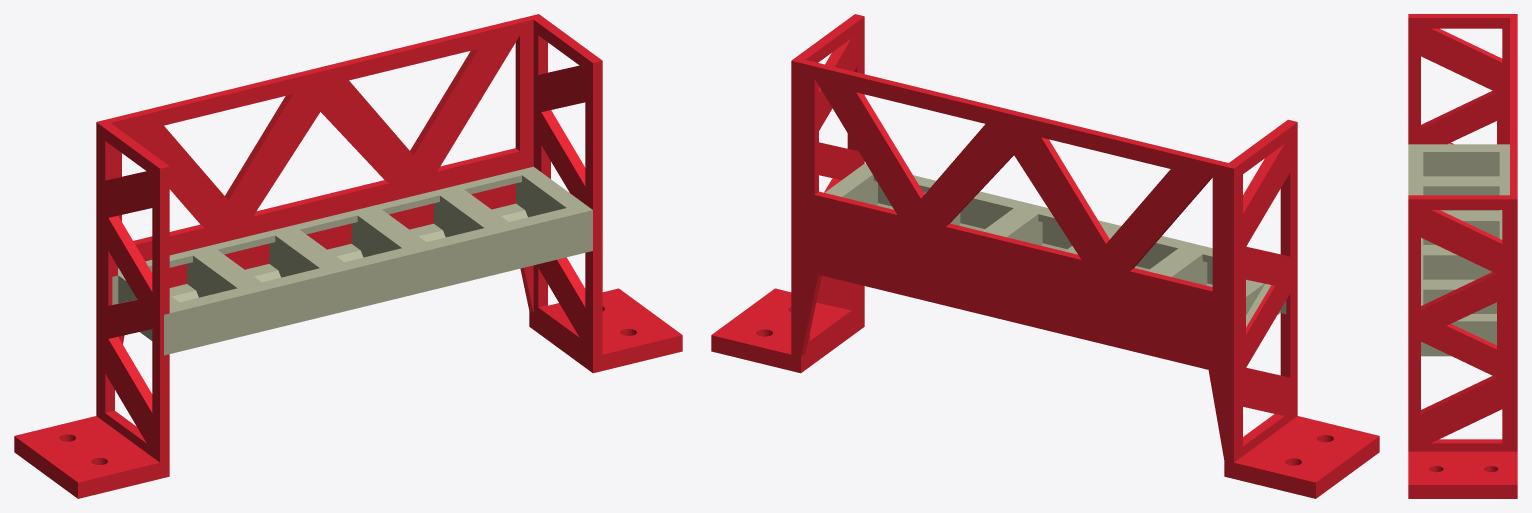
Rendered from tinker.obj.
3 views of the same model, side by side, from view 1: azimuth 30°, elevation 25°; view 2: azimuth 150°, elevation 25°; view 3: azimuth 270°, elevation 25° (orthographic). The views are drawn at different scales.
Parts seen in each view (by area): view 1: group_0_15277357, group_0_11909273; view 2: group_0_15277357, group_0_11909273; view 3: group_0_15277357, group_0_11909273.
Part boxes in pixels (x1=…): group_0_15277357: x1=14, y1=14, x2=682, y2=498; group_0_11909273: x1=112, y1=166, x2=592, y2=355; group_0_15277357: x1=711, y1=14, x2=1379, y2=498; group_0_11909273: x1=825, y1=163, x2=1286, y2=326; group_0_15277357: x1=1408, y1=14, x2=1517, y2=498; group_0_11909273: x1=1408, y1=143, x2=1509, y2=356.
Size of the model in its own units: 155 by 76 by 28.35.
